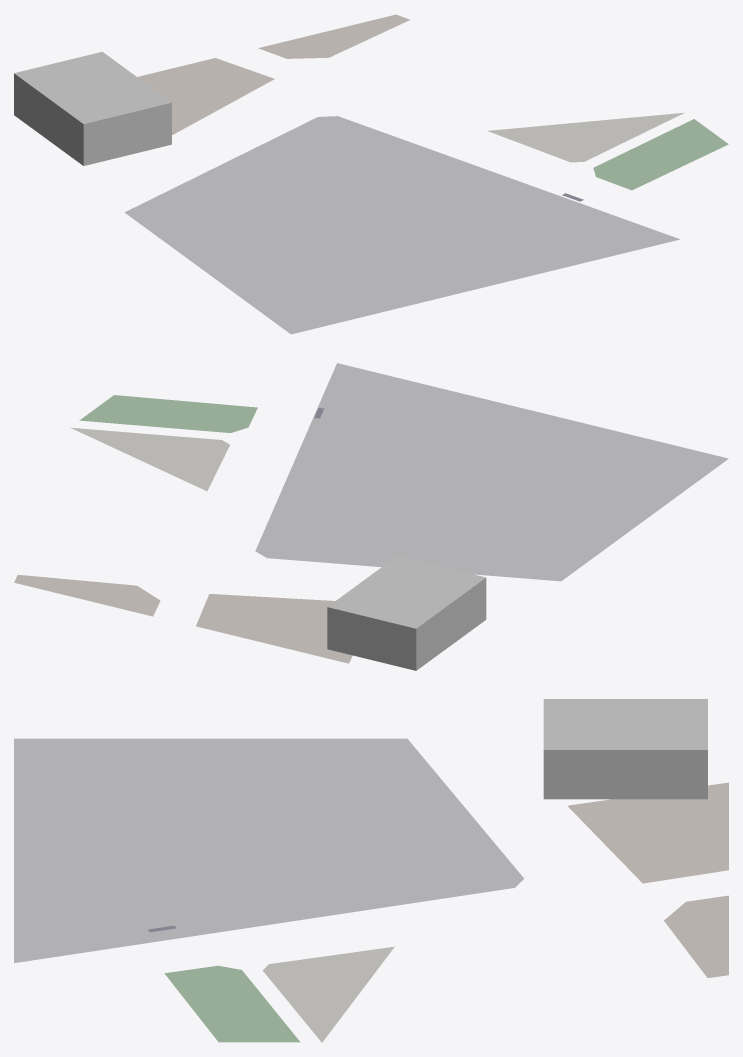
File: 100_105_mid.glb
3 views of the same model, one above another, from view 1: azimuth 30°, elevation 25°; view 2: azimuth 150°, elevation 25°; view 3: azimuth 270°, elevation 25° (orthographic). The views are drawn at different scales.
Bounding box in the file's own units: 500 × 39.75 × 500.
